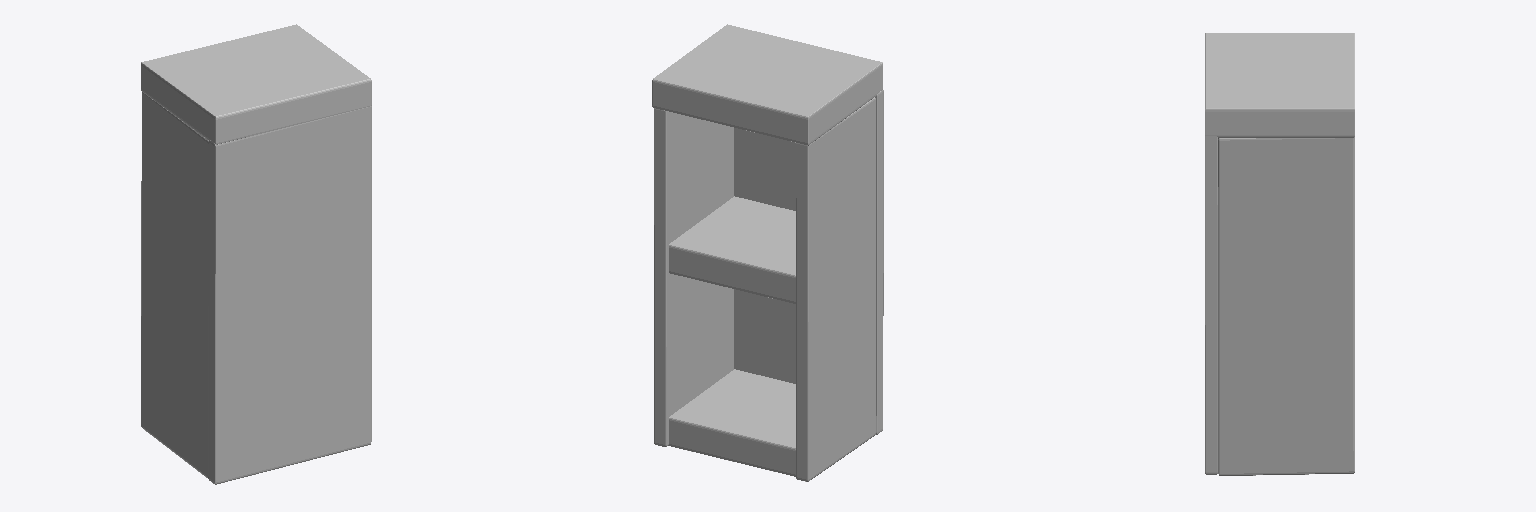
File: Shelf.obj
The picture shows the model from 3 angles: view 1: azimuth 30°, elevation 25°; view 2: azimuth 150°, elevation 25°; view 3: azimuth 270°, elevation 25°; orthographic projection.
Visible parts, largest first — view 1: uploads_files_[number redacted]_Tavern_Stand_OBJ; view 2: uploads_files_[number redacted]_Tavern_Stand_OBJ; view 3: uploads_files_[number redacted]_Tavern_Stand_OBJ.
Boxes of the visible parts, box(x1,y1,x2,y2) form: uploads_files_[number redacted]_Tavern_Stand_OBJ: box(141, 24, 371, 484); uploads_files_[number redacted]_Tavern_Stand_OBJ: box(652, 24, 883, 481); uploads_files_[number redacted]_Tavern_Stand_OBJ: box(1205, 33, 1354, 475).
Size of the model in its own units: 63.69 by 144 by 53.07.